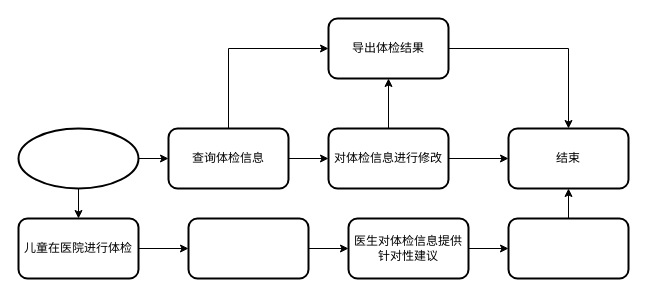
This 646x296 diagram has some shape labels left out. Each missing label, with the centre of its shape:
"将信息录入到系统当中" belongs at (x=568, y=248).
"开始" belongs at (x=78, y=158).
"得到体检表格" belongs at (x=248, y=248).
